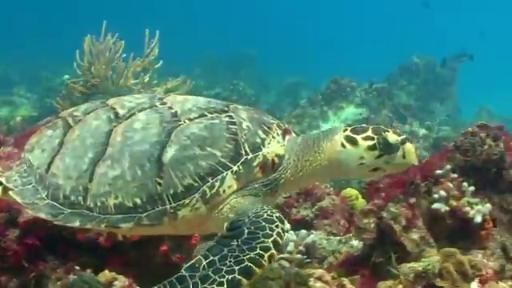Fish: (2, 95, 417, 287)
